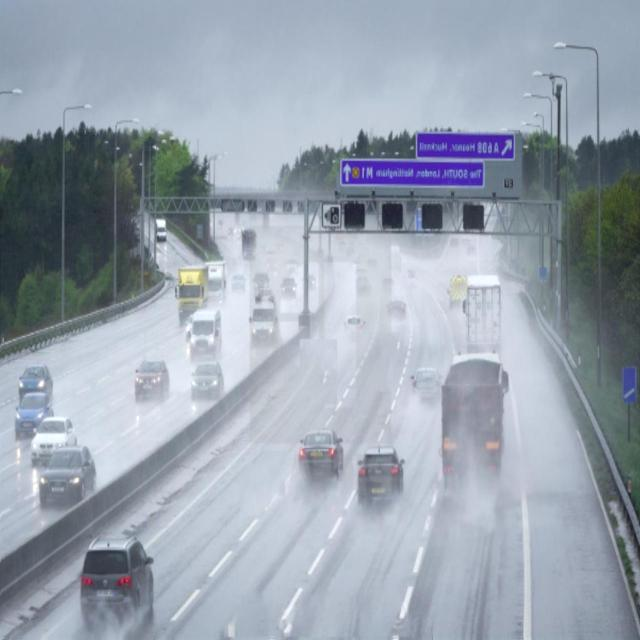Car: (76, 523, 161, 634), (349, 436, 409, 522), (295, 411, 348, 487), (40, 444, 98, 512), (128, 344, 170, 406), (8, 388, 53, 443), (23, 417, 75, 463), (186, 351, 228, 407), (183, 302, 223, 360), (406, 358, 440, 414), (240, 300, 276, 352), (17, 353, 57, 398), (274, 269, 298, 303)
Truck: (429, 351, 519, 493), (459, 271, 507, 363), (176, 250, 226, 319), (147, 212, 174, 250)
